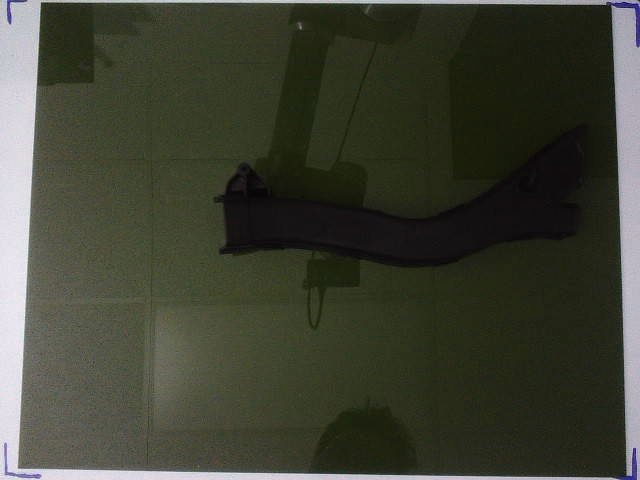887_A-Top: (215, 123, 586, 262)
